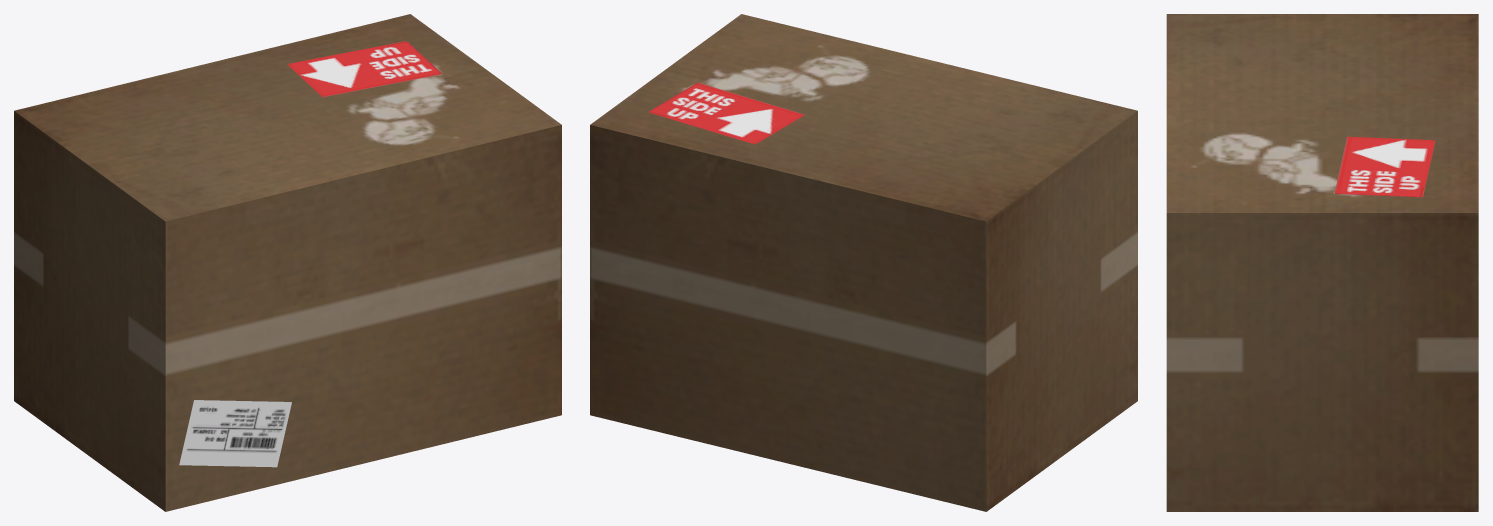
The model's file is nt_2020_cardboardbox_LOD0.obj.
3 views of the same model, side by side, from view 1: azimuth 30°, elevation 25°; view 2: azimuth 150°, elevation 25°; view 3: azimuth 270°, elevation 25° (orthographic). The views are drawn at different scales.
Visible parts, largest first — view 1: mtl_nt_2020_cardboardbox, mtl_p_glo_cardboardbox_decal; view 2: mtl_nt_2020_cardboardbox, mtl_p_glo_cardboardbox_decal; view 3: mtl_nt_2020_cardboardbox, mtl_p_glo_cardboardbox_decal.
Boxes of the visible parts, left/top/right/bottom form: mtl_nt_2020_cardboardbox: left=14, top=14, right=561, bottom=511; mtl_p_glo_cardboardbox_decal: left=179, top=41, right=442, bottom=467; mtl_nt_2020_cardboardbox: left=590, top=14, right=1137, bottom=511; mtl_p_glo_cardboardbox_decal: left=648, top=82, right=804, bottom=144; mtl_nt_2020_cardboardbox: left=1166, top=14, right=1478, bottom=511; mtl_p_glo_cardboardbox_decal: left=1334, top=136, right=1435, bottom=197.
Size of the model in its own units: 74 by 51.92 by 49.
